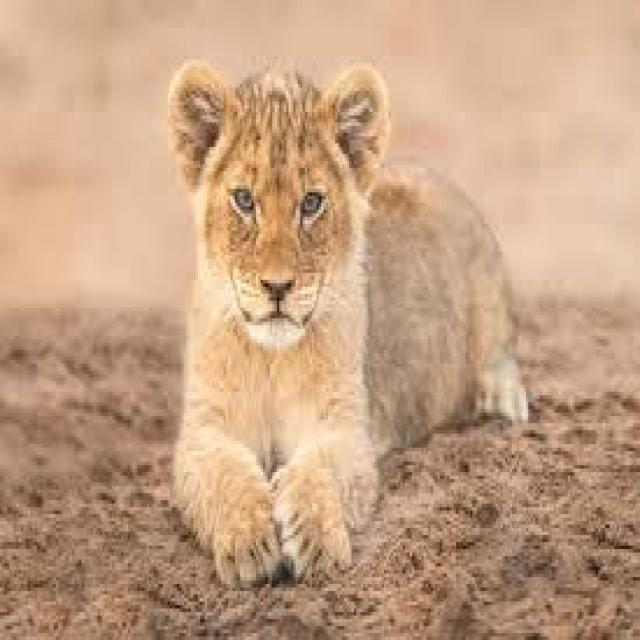Lion: (168, 59, 526, 581)
